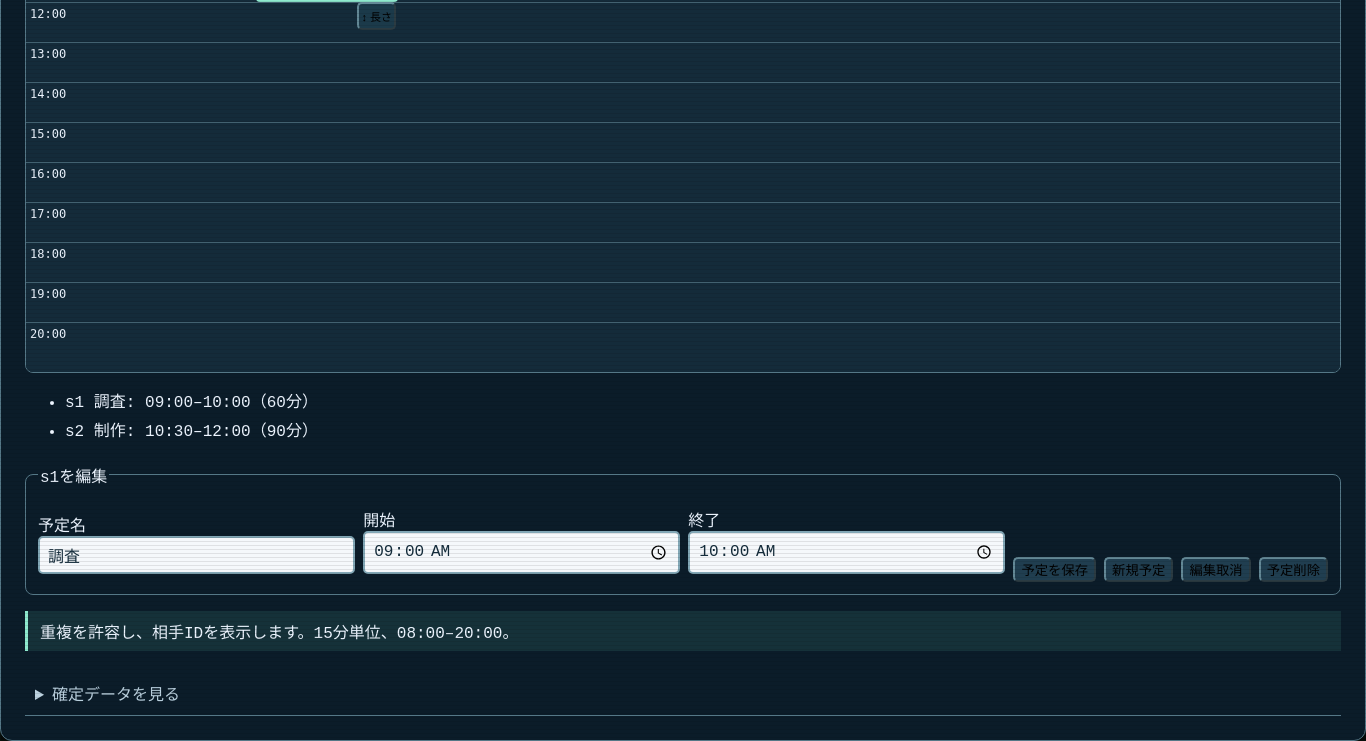
Test: schedule saves real times, overlap IDs, cancels draft and restores deletion/reset
Later steps or results of the test are not shown.
(page scrolled)
Replace the text in the time field named "終了時刻" with "11:00": (847, 552) [688,531,1005,574]
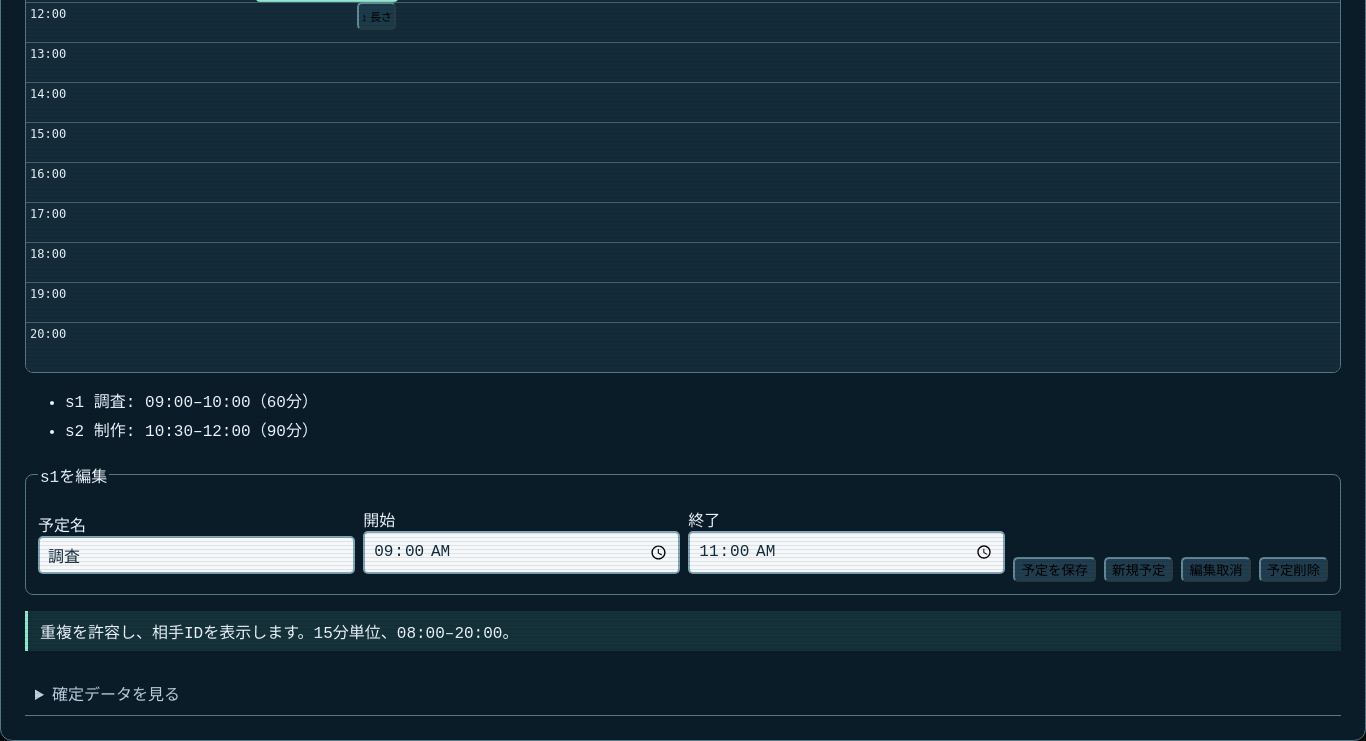
Click the button "予定を保存": (1055, 569) [1013,557,1096,582]
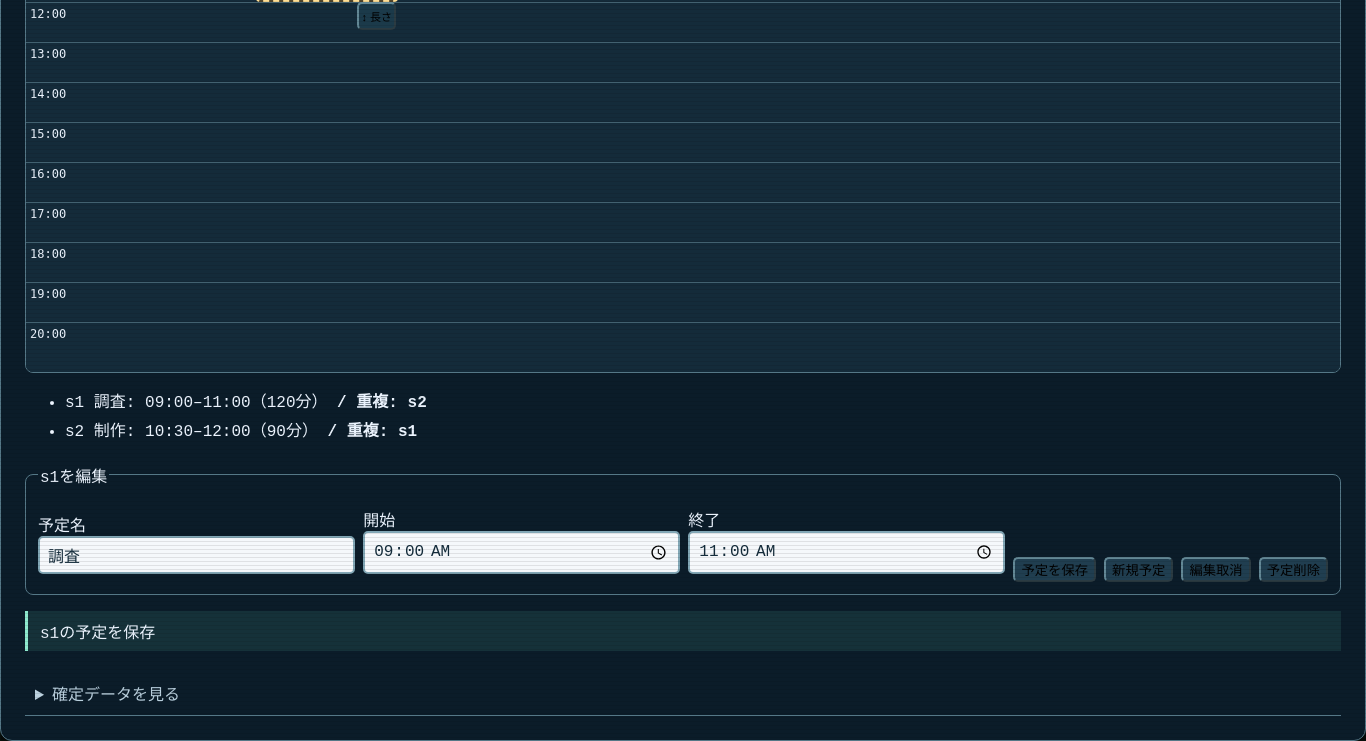
Check: the list item "s1 調査: 09:00–11:00（120分） / 重複: s2" is shown, box [65,394,427,412]
Replace the text in the time field named "終了時刻" with "08:00": (847, 552) [688,531,1005,574]
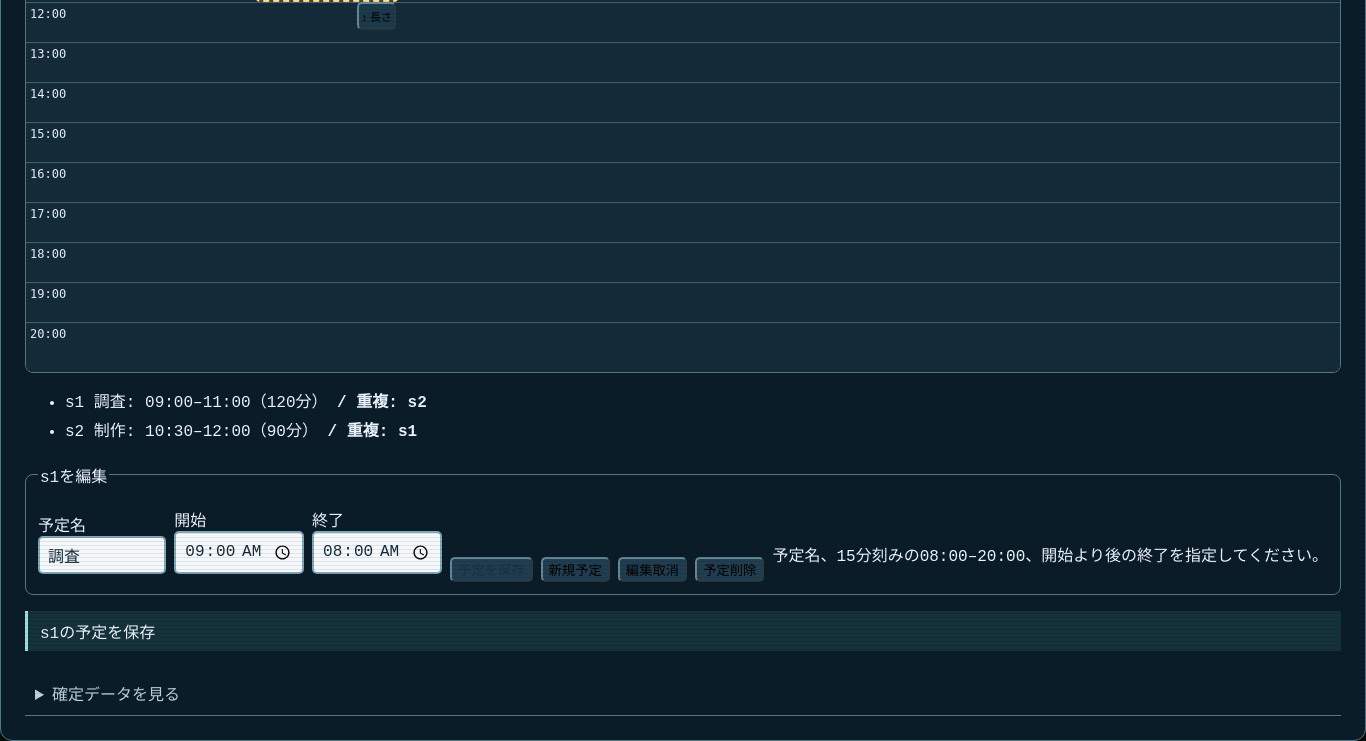
Check: the button "予定を保存" is disabled, box [450,557,532,582]
